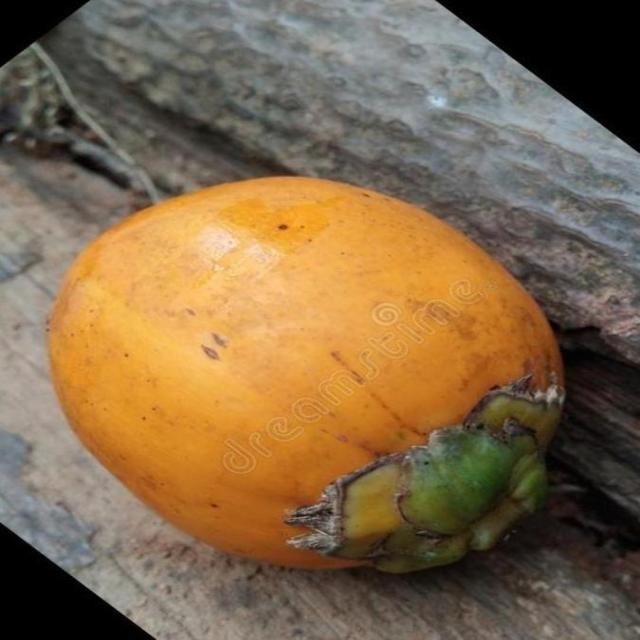good: (45, 176, 566, 577)
